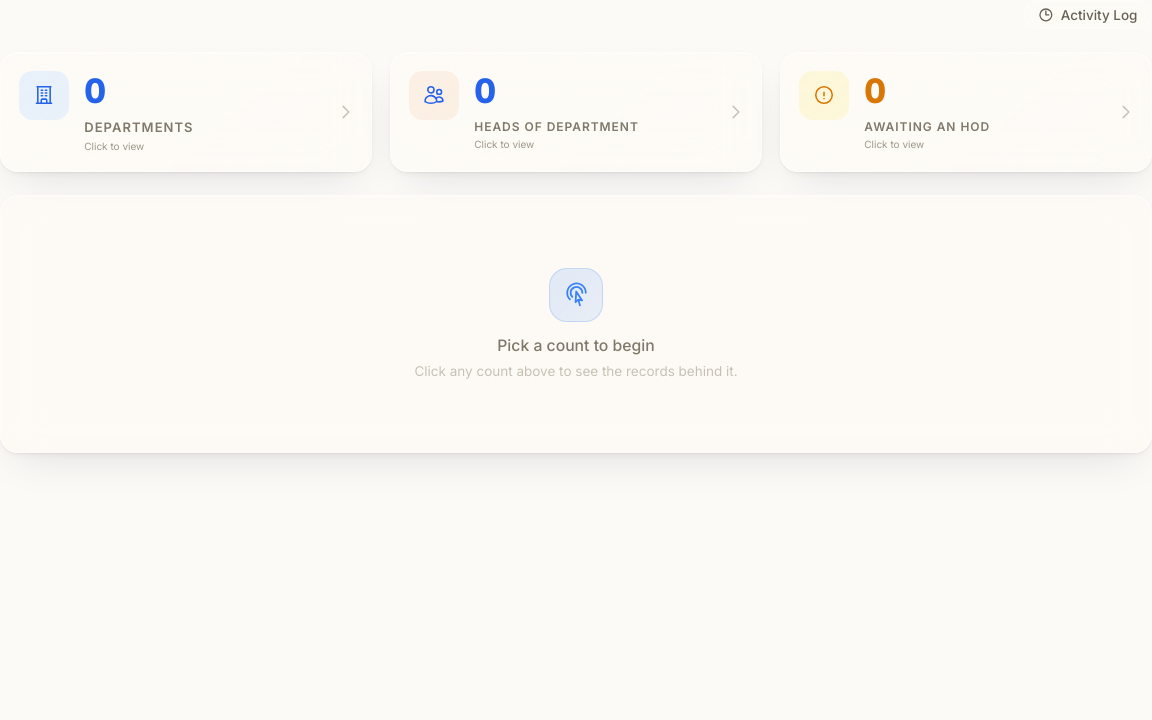
Test case: AdminPanel â€” department list › shows an empty state when there are no departments
Step 1. Click the button "0 Departments Click to view" → (44, 95), box [0,52,372,172]
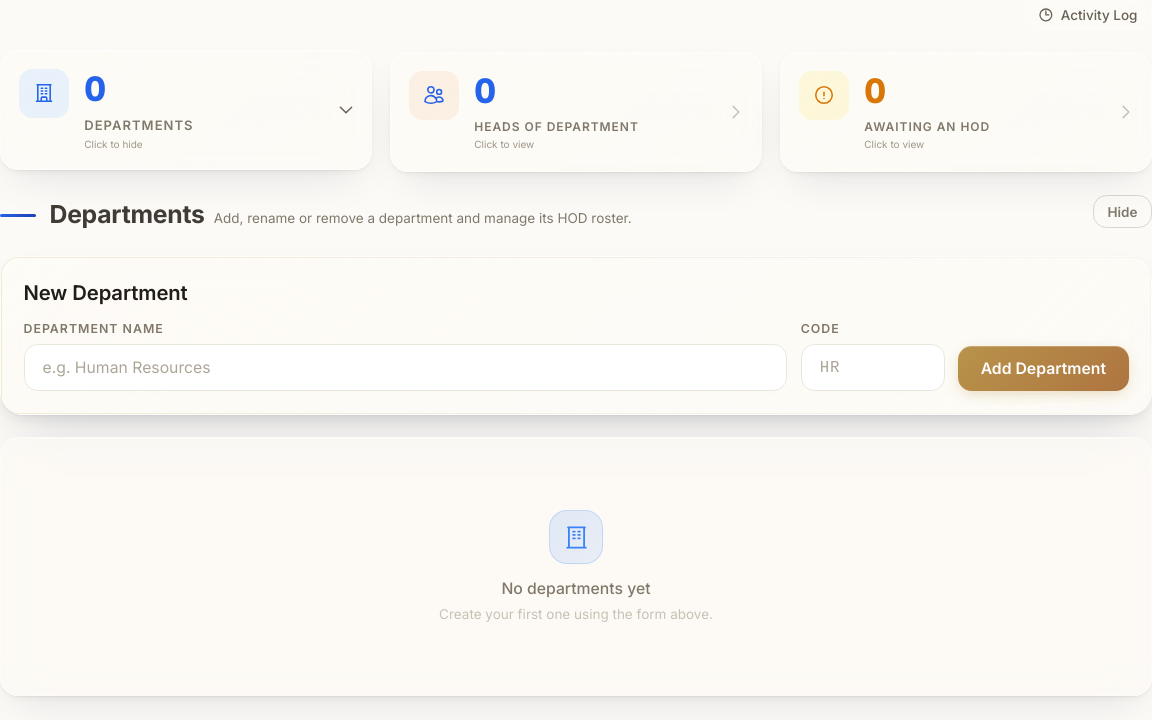
Check: the text "No departments yet" is shown, box [501,579,651,598]
